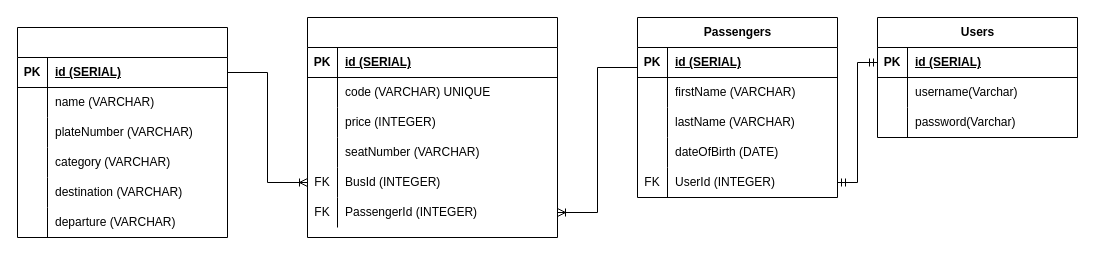
Some shapes in this 1095 by 255 pixel diagram are drawn without their labels. Here are the shapes that lost their labels. From the top down, the box of each, then its label:
(16, 26, 228, 238): Buses
(306, 16, 558, 238): Tickets
